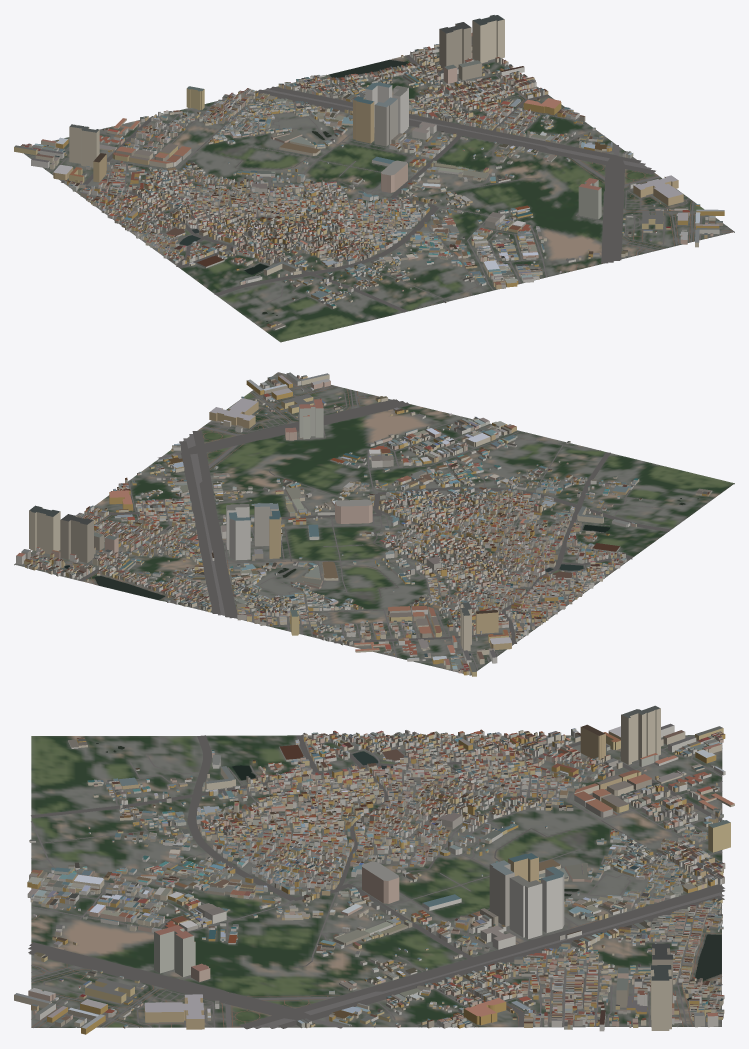
3 views of the same model, one above another, from view 1: azimuth 30°, elevation 25°; view 2: azimuth 150°, elevation 25°; view 3: azimuth 270°, elevation 25° (orthographic). The views are drawn at different scales.
Visible parts, largest first — view 1: ground, walls, roofs, roads, water; view 2: ground, walls, roofs, roads, water; view 3: ground, walls, roofs, roads, water.
Part boxes in pixels (<box>): ground: <box>23,51,734,342</box>; walls: <box>14,16,724,329</box>; roofs: <box>14,15,724,328</box>; roads: <box>25,44,734,312</box>; water: <box>179,56,438,321</box>; ground: <box>14,372,734,675</box>; walls: <box>16,373,712,676</box>; roofs: <box>16,372,711,671</box>; roads: <box>22,372,670,671</box>; water: <box>64,498,698,599</box>; ground: <box>31,735,722,1027</box>; walls: <box>14,708,734,1034</box>; roofs: <box>15,705,734,1028</box>; roads: <box>28,734,724,1029</box>; water: <box>96,743,721,1000</box>.
Bounding box in the file's own units: 1453 × 120 × 1463.
